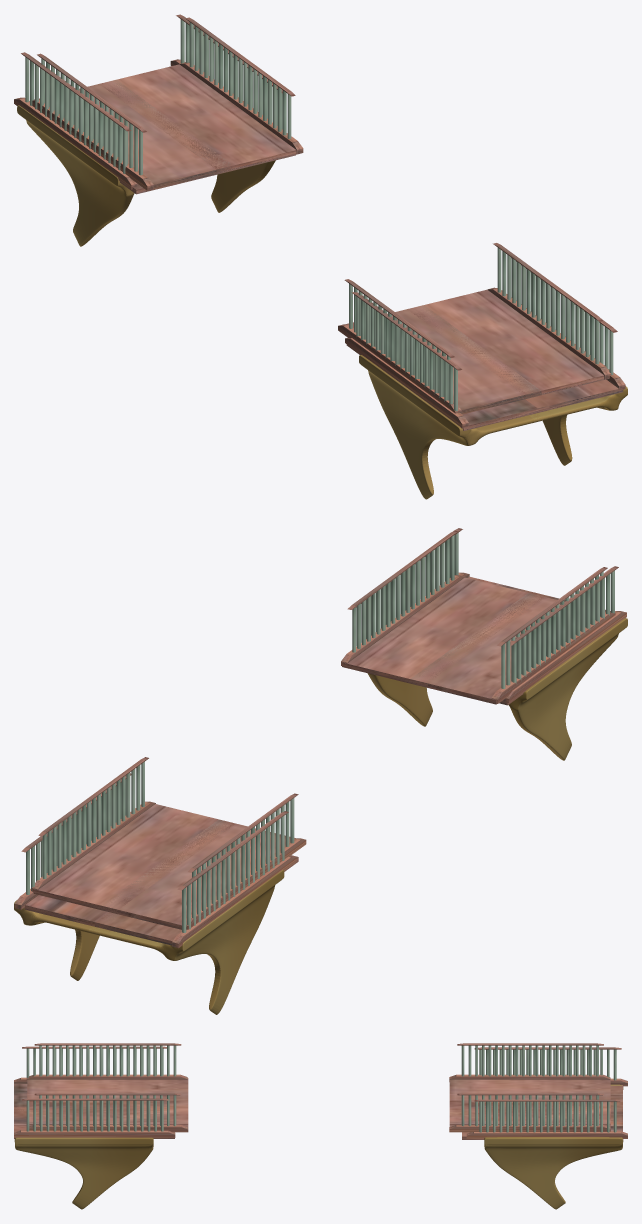
Rendered from ponteVGHorror~full.fbx.
3 views of the same model, one above another, from view 1: azimuth 30°, elevation 25°; view 2: azimuth 150°, elevation 25°; view 3: azimuth 270°, elevation 25° (orthographic). The views are drawn at different scales.
Visible parts, largest first — view 1: mobile dx, mobile sx, mobile sx.004, Base Fissa.001, Cube, Cube.001; view 2: mobile sx, mobile dx, Base Fissa.001, mobile sx.004, Cube.001, Cube; view 3: mobile dx, mobile sx, Base Fissa.001, mobile sx.004, Cube.001, Cube.
Part boxes in pixels (bbox=[...]): mobile dx: bbox=[32, 17, 303, 190]; mobile sx: bbox=[338, 243, 611, 414]; mobile sx.004: bbox=[345, 257, 625, 430]; Base Fissa.001: bbox=[14, 14, 295, 194]; Cube: bbox=[359, 355, 627, 499]; Cube.001: bbox=[17, 105, 275, 246]; mobile sx: bbox=[341, 530, 615, 704]; mobile dx: bbox=[31, 757, 306, 929]; Base Fissa.001: bbox=[14, 773, 298, 948]; mobile sx.004: bbox=[356, 528, 626, 705]; Cube.001: bbox=[14, 870, 284, 1014]; Cube: bbox=[367, 618, 627, 760]; mobile dx: bbox=[449, 1043, 610, 1132]; mobile sx: bbox=[26, 1043, 188, 1132]; Base Fissa.001: bbox=[462, 1047, 627, 1139]; mobile sx.004: bbox=[14, 1046, 175, 1138]; Cube.001: bbox=[484, 1084, 623, 1209]; Cube: bbox=[14, 1137, 153, 1209].
Bounding box in the file's own units: 500 × 481 × 2298.
Materials: 5 (5 with a texture image).
